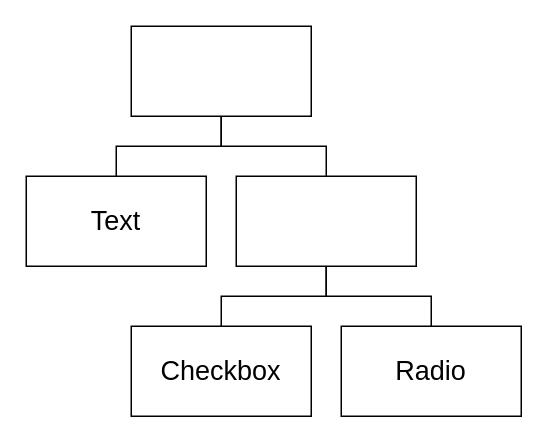
This 548x443 diagram has some shape labels left out. The shapes that lost their labels are listed below. From the top down, each one's centre as x and y in pixels, then its label:
At point 220,70: "Field".
At point 325,220: "Boolean".
